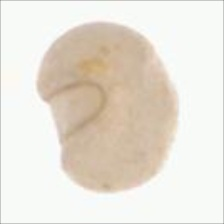L5: (41, 78, 111, 142), (142, 42, 177, 97)
L6: (33, 20, 184, 197)
